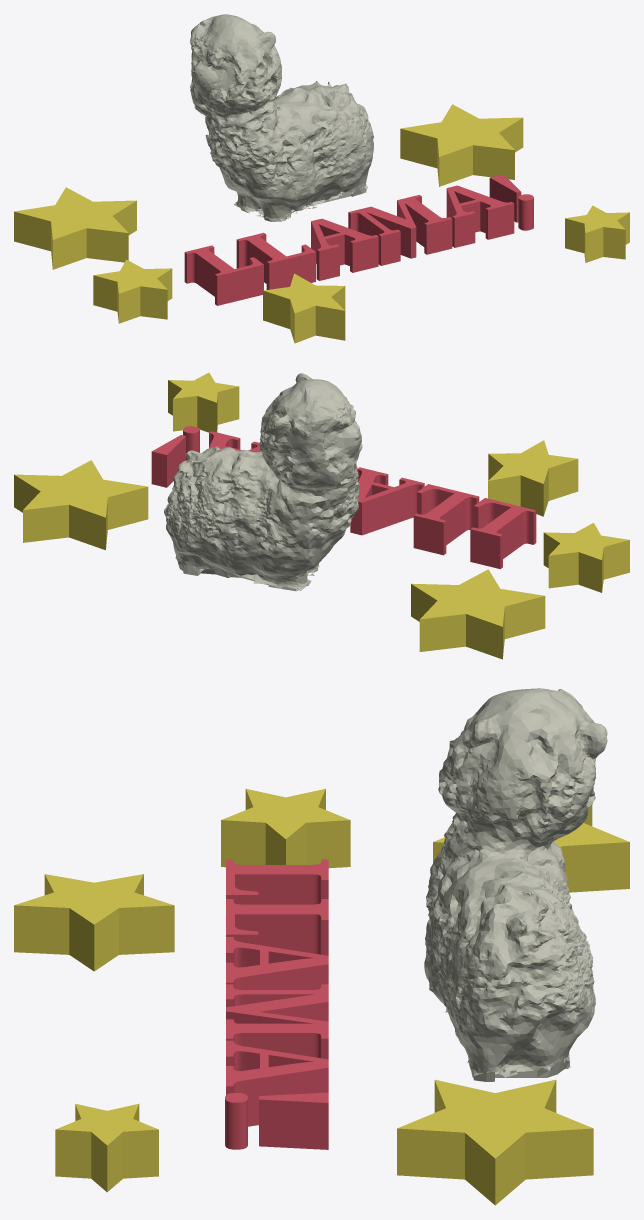
The model's file is Cfinnegan_tinkercad.glb.
3 views of the same model, one above another, from view 1: azimuth 30°, elevation 25°; view 2: azimuth 150°, elevation 25°; view 3: azimuth 270°, elevation 25° (orthographic). The views are drawn at different scales.
Visible parts, largest first — view 1: Mesh_Mesh_head_geo.001_lambert2SG.001; view 2: Mesh_Mesh_head_geo.001_lambert2SG.001; view 3: Mesh_Mesh_head_geo.001_lambert2SG.001.
Part boxes in pixels (x1,y1,x2,y2): Mesh_Mesh_head_geo.001_lambert2SG.001: (14,14,629,343); Mesh_Mesh_head_geo.001_lambert2SG.001: (14,372,629,659); Mesh_Mesh_head_geo.001_lambert2SG.001: (14,688,629,1205).
Size of the model in its own units: 0.1692 by 0.0638 by 0.119.
